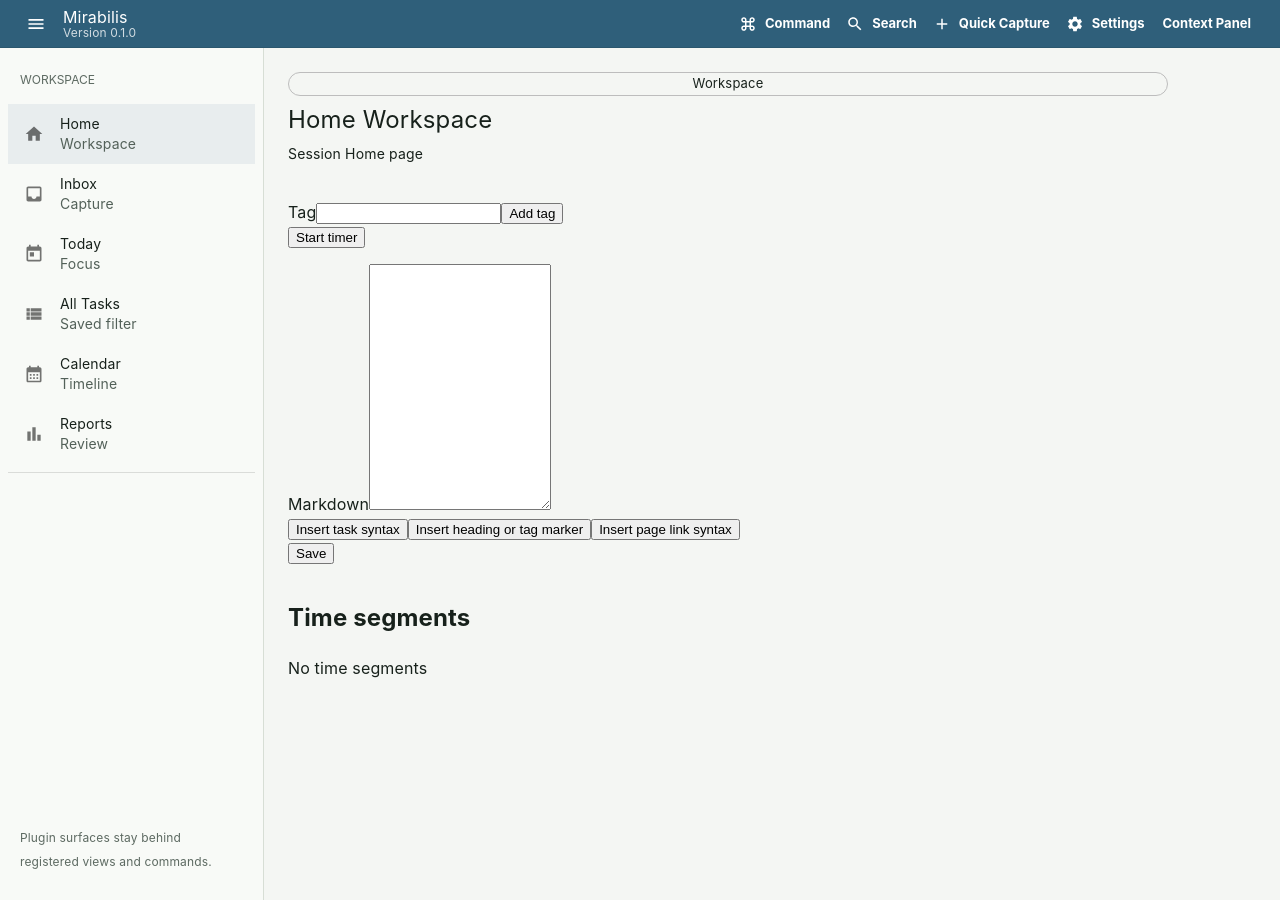
Test: TASK-038 sidebar page and saved-filter navigation › shows generic unavailable when a saved filter view is missing even if the filter has no matches
Click the button "Today Focus". click: [63, 254]
box: [24,235,101,272]
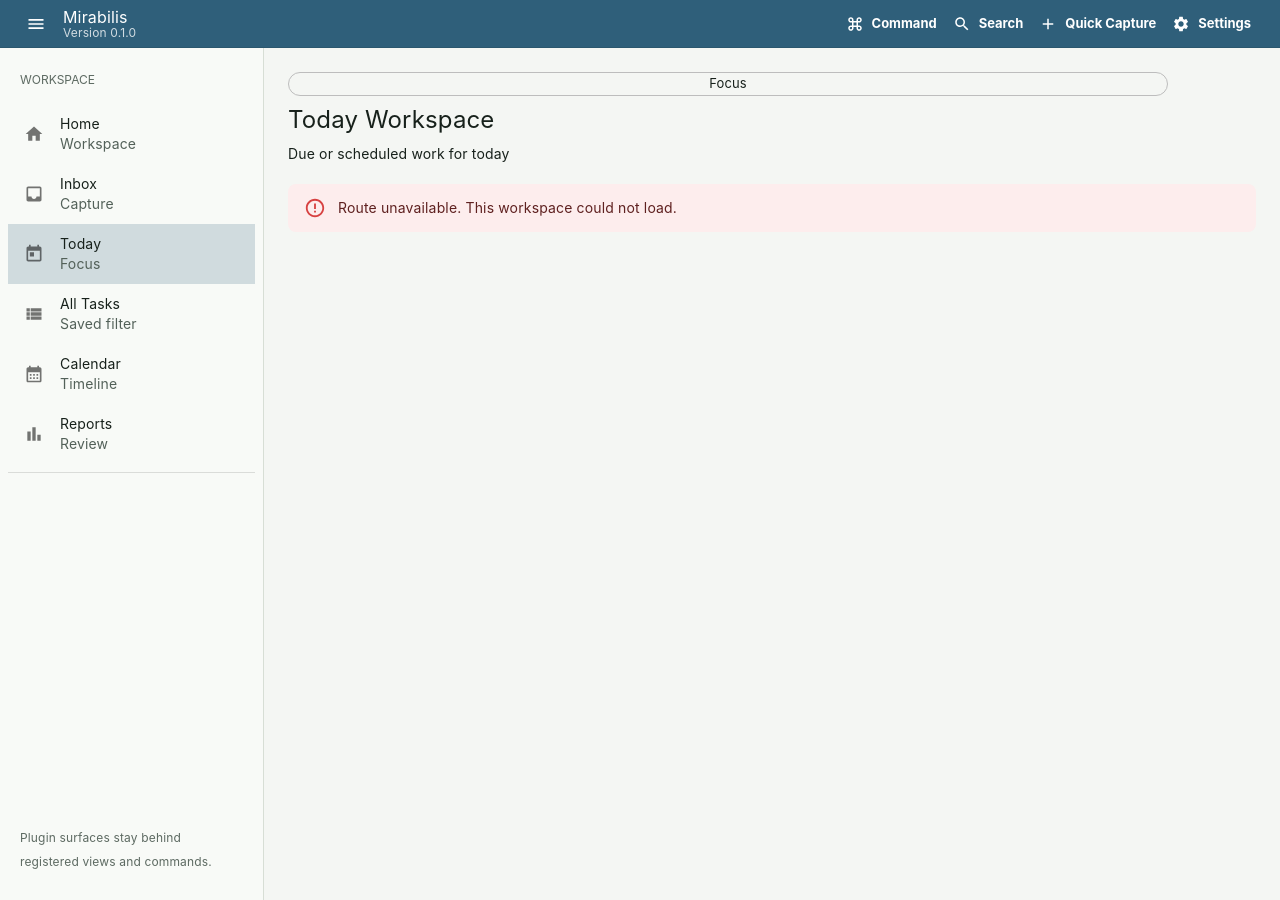
Now the message "Route unavailable. This workspace could not load." is shown, box [288,184,1256,232]
